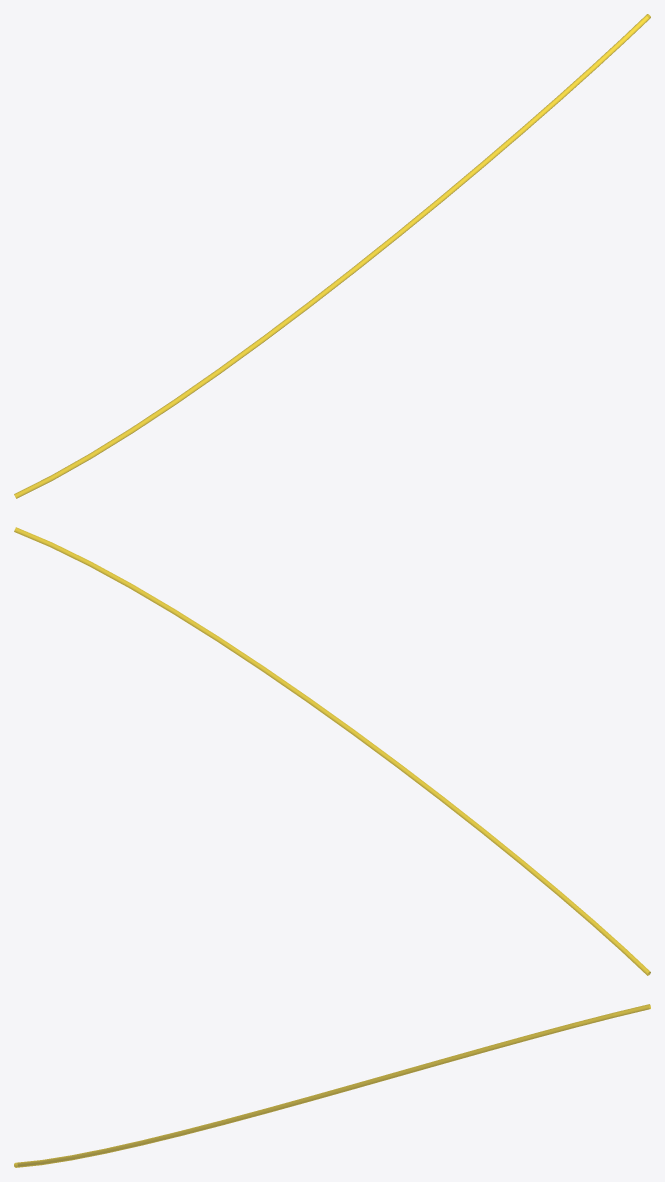
File: Event_75125125_track_2.fbx
3 views of the same model, one above another, from view 1: azimuth 30°, elevation 25°; view 2: azimuth 150°, elevation 25°; view 3: azimuth 330°, elevation 25° (orthographic). The views are drawn at different scales.
Parts seen in each view (by area): view 1: Model; view 2: Model; view 3: Model.
Boxes of the visible parts, x1,y1,x2,y2 form: Model: (14, 14, 650, 498); Model: (14, 527, 650, 975); Model: (14, 1004, 650, 1167).
Size of the model in its own units: 5.51 by 2.58 by 0.4732.
